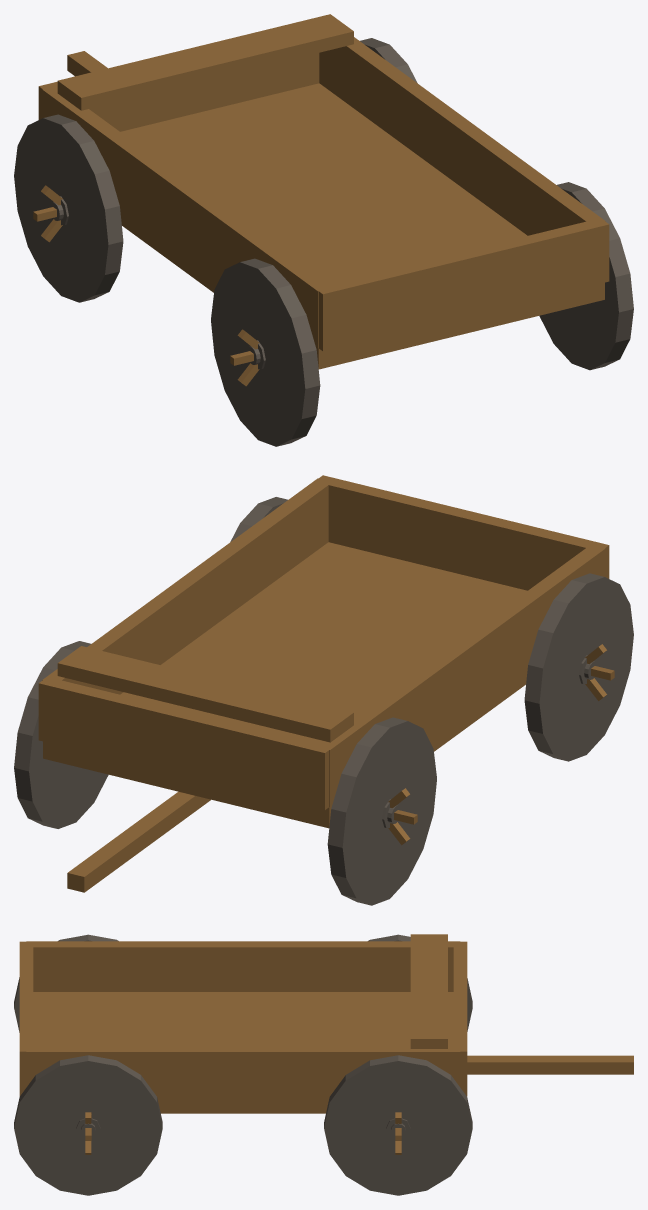
File: Wagon.fbx
3 renders of one model, top to bottom at view 1: azimuth 30°, elevation 25°; view 2: azimuth 150°, elevation 25°; view 3: azimuth 270°, elevation 25°, orthographic. The views are drawn at different scales.
Parts seen in each view (by area): view 1: Wagon_Bed, Wagon_Back, Wagon_Side_R, Wheel_FL_Rim, Wheel_BL_Rim, Wagon_Side_L, Wagon_Seat, Wagon_Front, Wheel_BR_Rim, Wheel_FR_Rim, Wagon_Tongue; view 2: Wagon_Bed, Wagon_Front, Wagon_Back, Wagon_Side_R, Wheel_BL_Rim, Wheel_FL_Rim, Wagon_Side_L, Wagon_Seat, Wheel_FR_Rim, Wagon_Tongue, Wheel_BR_Rim; view 3: Wagon_Bed, Wagon_Side_L, Wheel_BR_Rim, Wheel_FR_Rim, Wagon_Side_R, Wagon_Seat, Wagon_Tongue, Wagon_Front, Wagon_Back, Wheel_BL_Rim, Wheel_FL_Rim.
Part boxes in pixels (box(x1,y1,x2,y2)): Wagon_Bed: box(119, 83, 604, 369); Wagon_Back: box(315, 218, 609, 351); Wagon_Side_R: box(319, 37, 605, 235); Wheel_FL_Rim: box(14, 114, 123, 302); Wheel_BL_Rim: box(211, 258, 320, 446); Wagon_Side_L: box(42, 86, 332, 348); Wagon_Seat: box(57, 14, 353, 110); Wagon_Front: box(38, 53, 319, 131); Wheel_BR_Rim: box(539, 182, 633, 370); Wheel_FR_Rim: box(360, 38, 417, 83); Wagon_Tongue: box(67, 51, 107, 76); Wagon_Bed: box(43, 542, 528, 828); Wagon_Front: box(38, 677, 332, 809); Wagon_Back: box(314, 475, 609, 590); Wagon_Side_R: box(42, 478, 331, 694); Wheel_BL_Rim: box(524, 573, 633, 761); Wheel_FL_Rim: box(327, 717, 436, 905); Wagon_Side_L: box(317, 546, 605, 806); Wagon_Seat: box(57, 646, 353, 742); Wheel_FR_Rim: box(14, 641, 108, 828); Wagon_Tongue: box(67, 791, 210, 892); Wheel_BR_Rim: box(230, 497, 287, 541); Wagon_Bed: box(33, 992, 453, 1113); Wagon_Side_L: box(26, 941, 459, 991); Wheel_BR_Rim: box(14, 1055, 162, 1195); Wheel_FR_Rim: box(324, 1055, 472, 1195); Wagon_Side_R: box(26, 1046, 460, 1096); Wagon_Seat: box(410, 934, 447, 1048); Wagon_Tongue: box(467, 1055, 633, 1074); Wagon_Front: box(453, 941, 467, 1096); Wagon_Back: box(19, 941, 33, 1096); Wheel_BL_Rim: box(14, 934, 118, 1032); Wheel_FL_Rim: box(368, 934, 472, 1031).
Bounding box in the file's own units: 558 × 260 × 1000.
